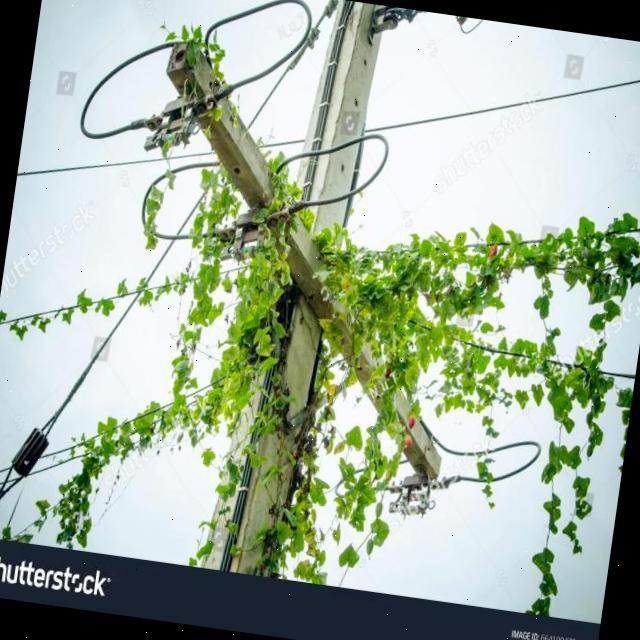critical vegetation: (84, 32, 603, 527)
